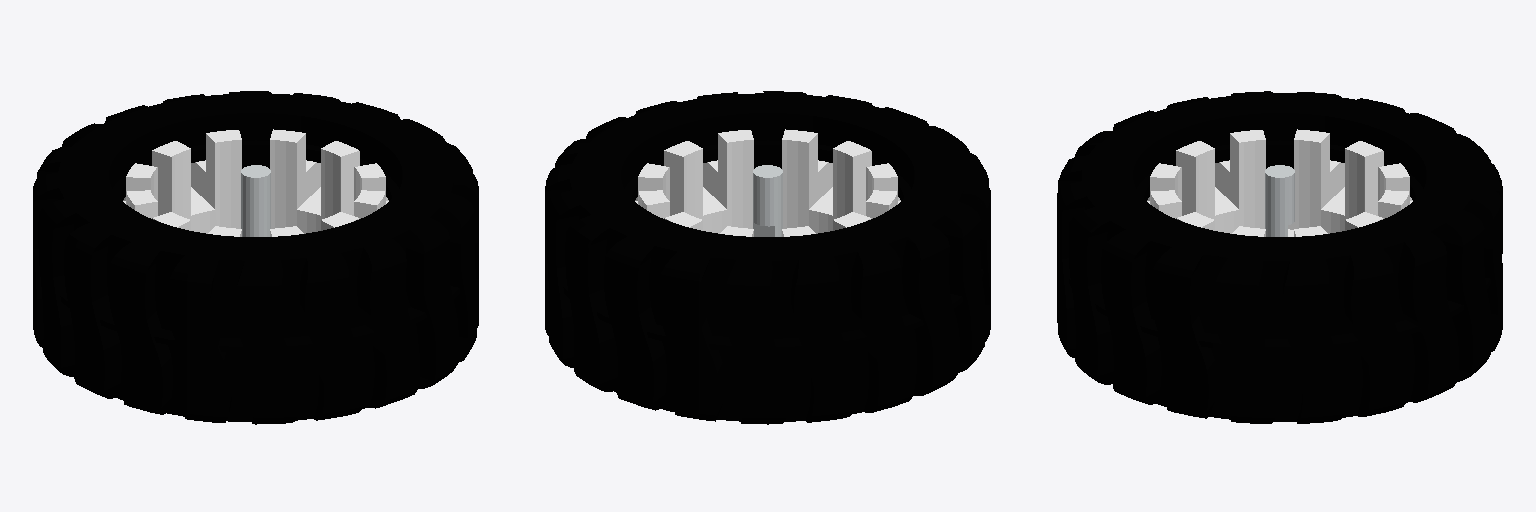
Rendered from wheel_R.obj.
3 views of the same model, side by side, from view 1: azimuth 30°, elevation 25°; view 2: azimuth 150°, elevation 25°; view 3: azimuth 270°, elevation 25° (orthographic).
Visible parts, largest first — view 1: wheel_R; view 2: wheel_R; view 3: wheel_R.
Boxes of the visible parts, x1,y1,x2,y2 form: wheel_R: [33, 91, 478, 424]; wheel_R: [545, 91, 990, 424]; wheel_R: [1057, 91, 1502, 423].
Size of the model in its own units: 0.044 by 0.0184 by 0.044.